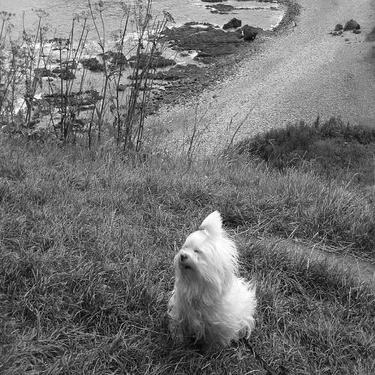dog: (153, 204, 261, 350)
